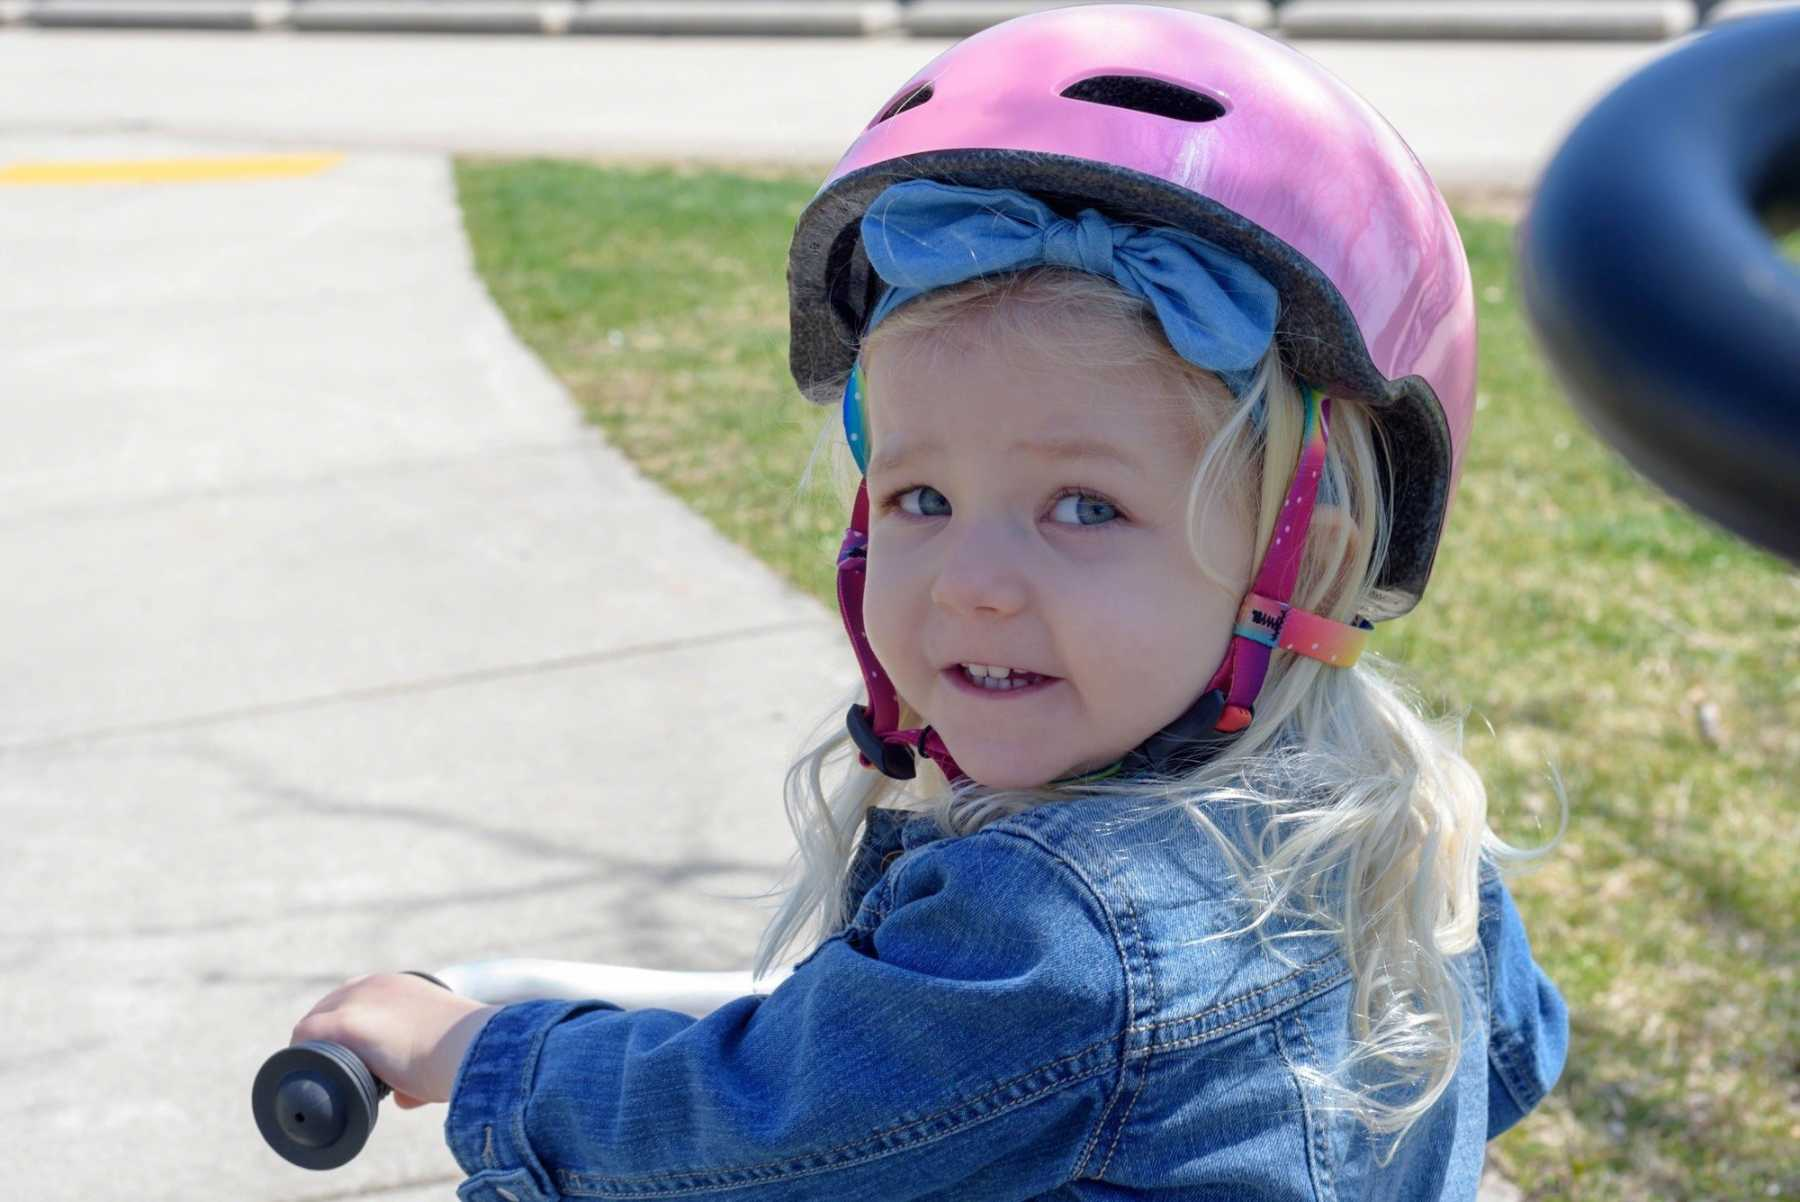helmet: (785, 1, 1481, 787)
